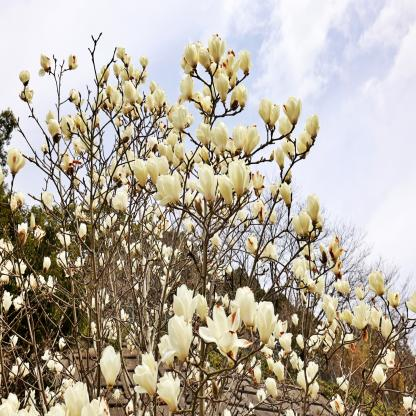Someiyoshino: (0, 30, 416, 416)
